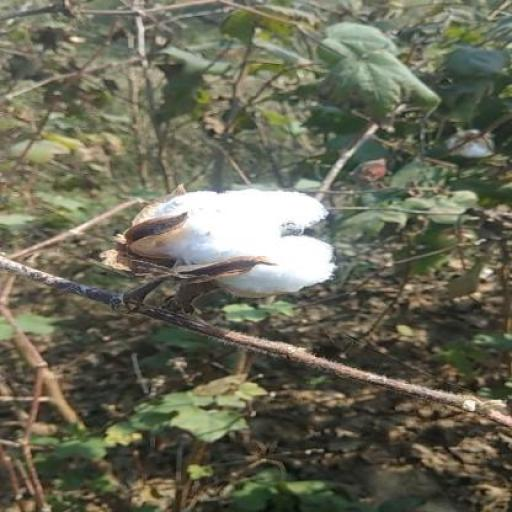cotton_ready: (44, 156, 360, 336)
